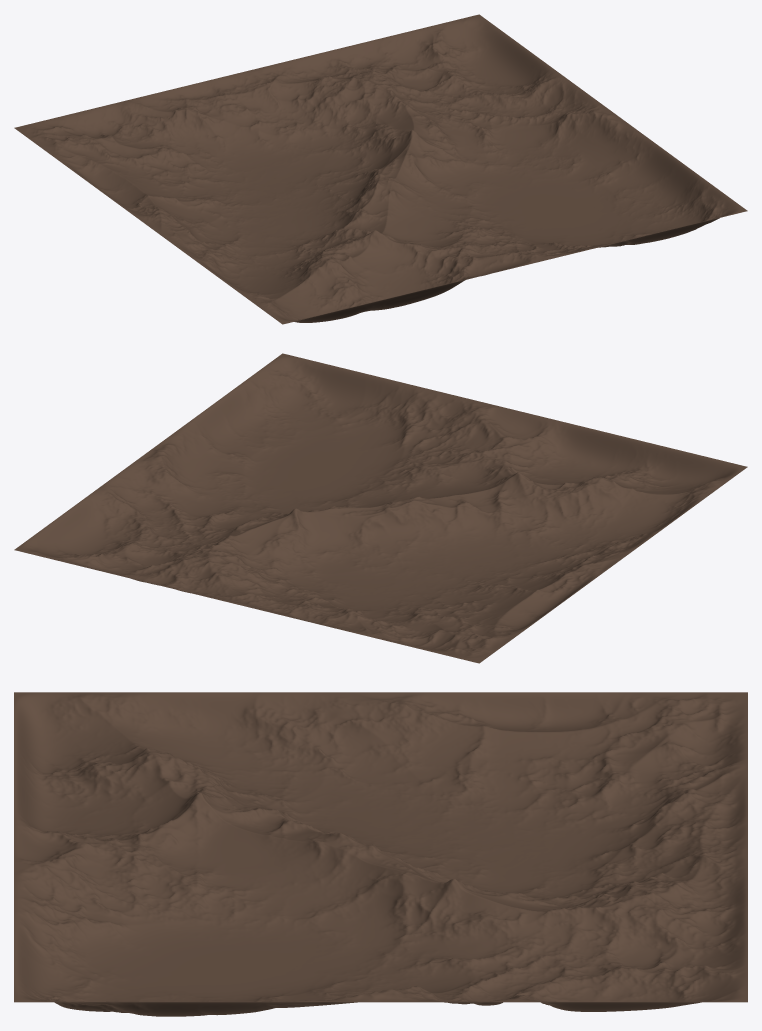
Rendered from Landscape 5km 10m.glb.
3 views of the same model, one above another, from view 1: azimuth 30°, elevation 25°; view 2: azimuth 150°, elevation 25°; view 3: azimuth 270°, elevation 25° (orthographic). The views are drawn at different scales.
Parts seen in each view (by area): view 1: Cube; view 2: Cube; view 3: Cube.
Boxes of the visible parts, x1,y1,x2,y2 form: Cube: (14,14,747,324); Cube: (14,353,747,663); Cube: (14,692,747,1016).
Bounding box in the file's own units: 5000 × 356 × 5000.
